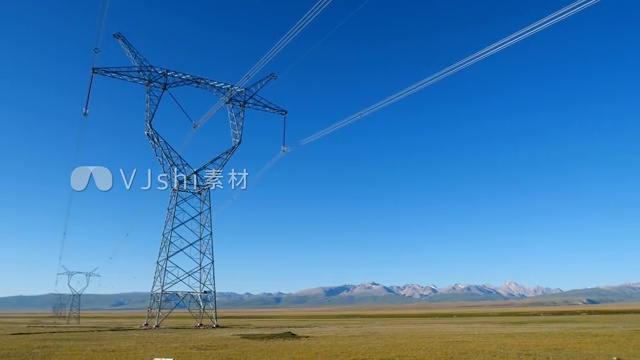tower_body: (91, 25, 298, 332), (52, 259, 108, 329)
tower_foot: (143, 263, 221, 329), (65, 306, 84, 326)
tower_head: (95, 29, 295, 195), (55, 263, 105, 295)
